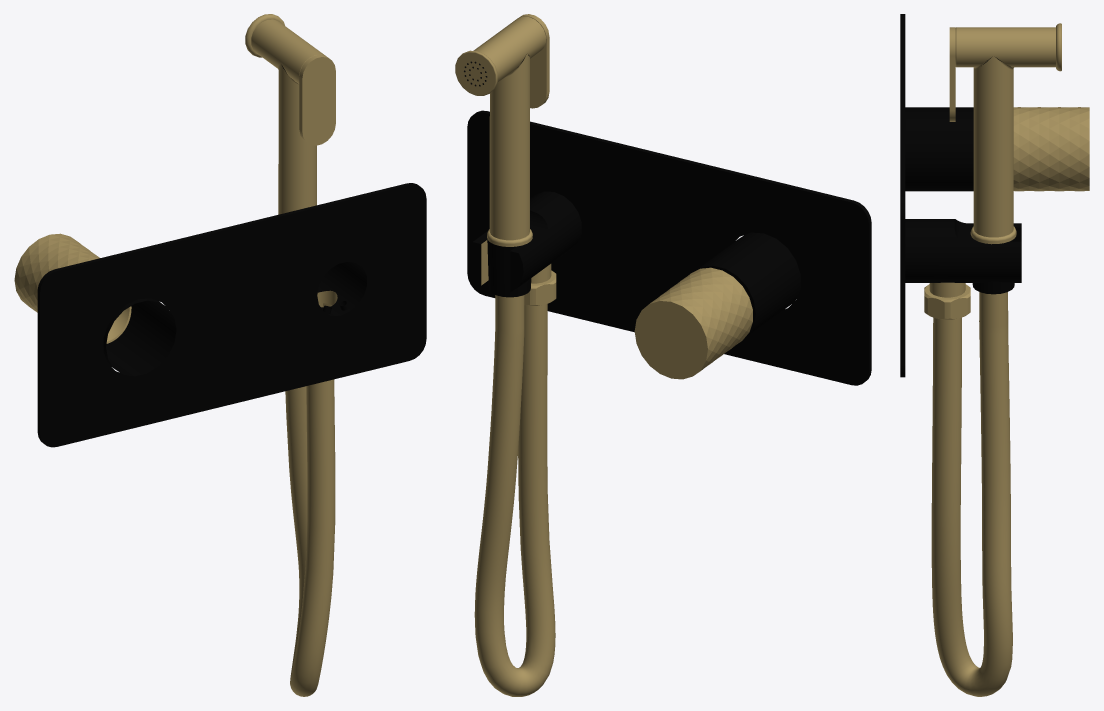
File: STICK_BOHEME_04.glb
3 views of the same model, side by side, from view 1: azimuth 30°, elevation 25°; view 2: azimuth 150°, elevation 25°; view 3: azimuth 270°, elevation 25° (orthographic). The views are drawn at different scales.
Parts seen in each view (by area): view 1: Group006; view 2: Group006; view 3: Group006.
Part boxes in pixels (bbox=[...]): Group006: bbox=[14, 14, 426, 696]; Group006: bbox=[455, 14, 871, 696]; Group006: bbox=[900, 14, 1089, 696].
Bounding box in the file's own units: 0.23 × 0.3689 × 0.0943.
